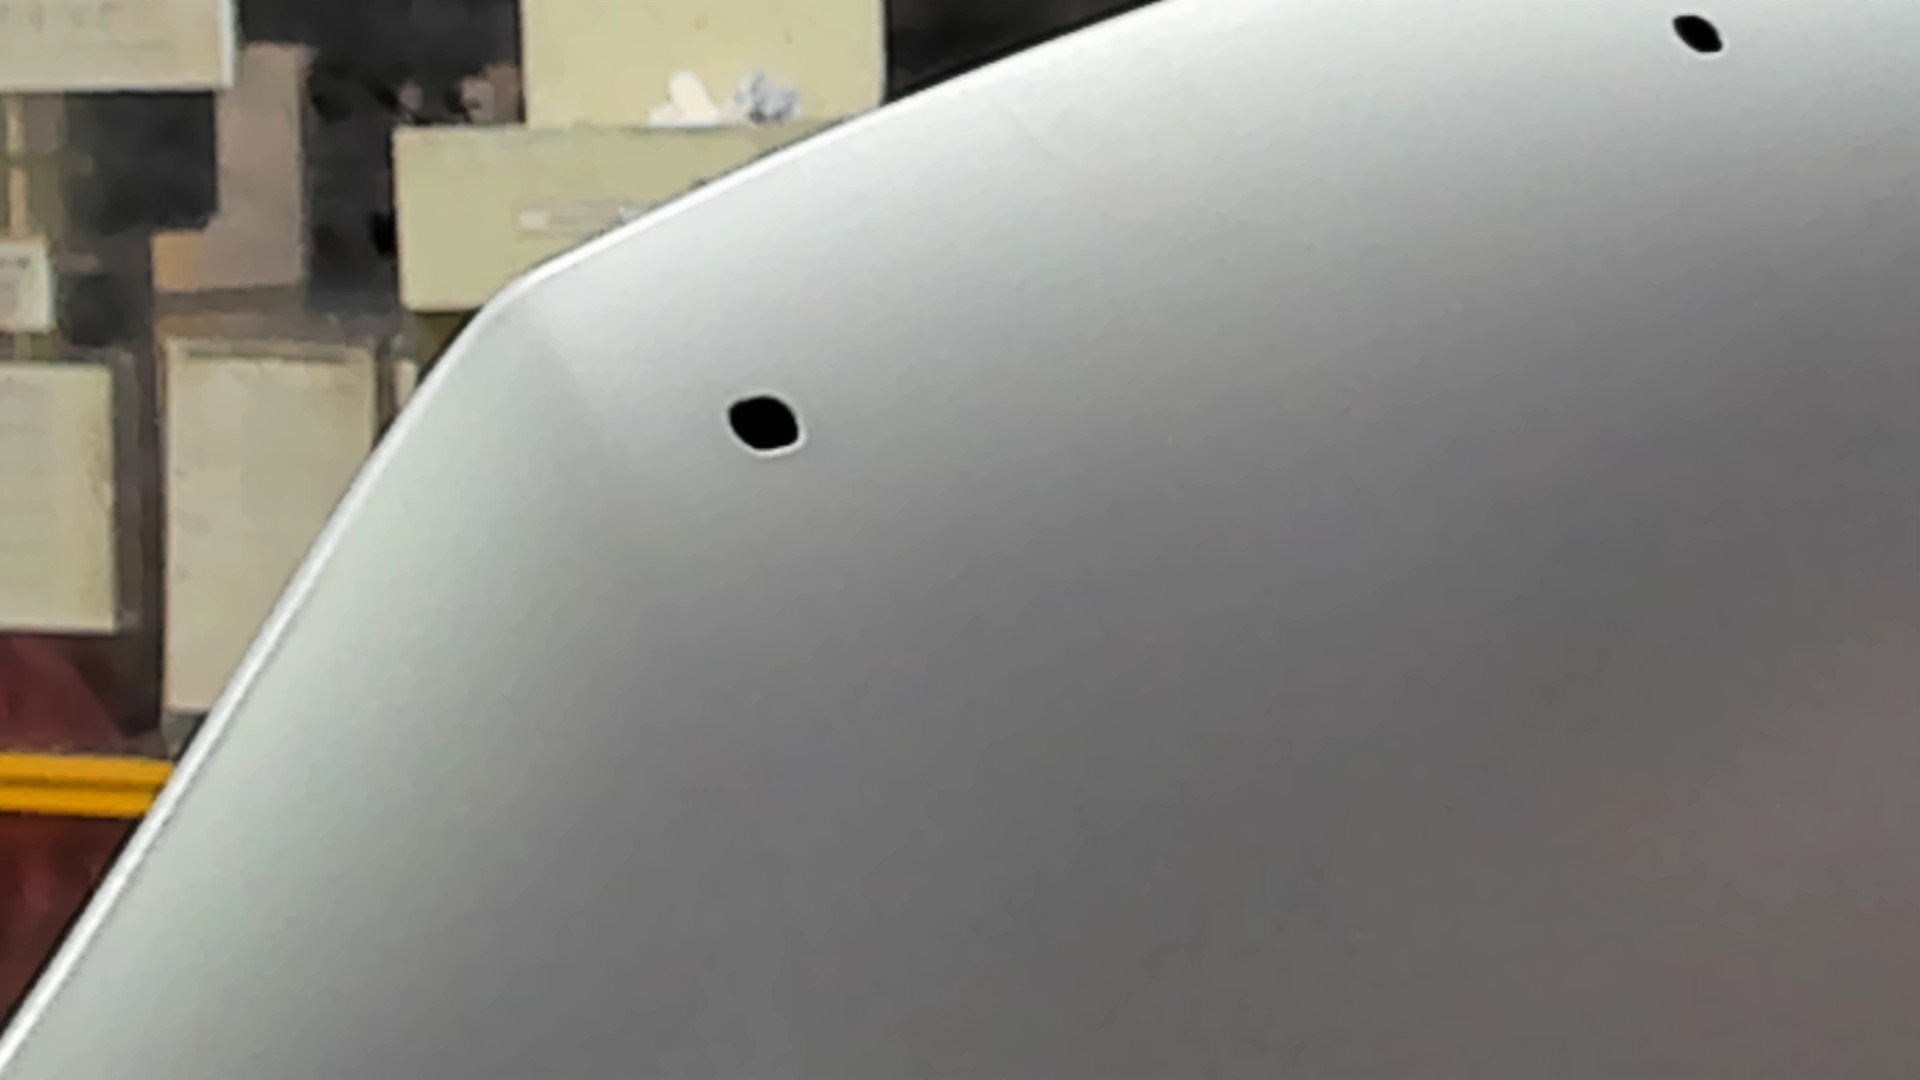amorfo: (721, 390, 814, 458), (1665, 11, 1731, 59)
